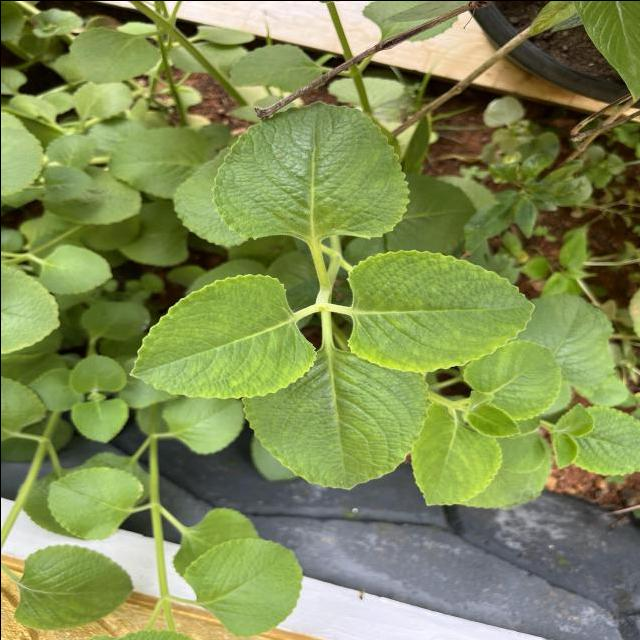Plectranthus barbatus: (215, 101, 411, 240), (126, 272, 318, 399), (344, 247, 536, 373), (238, 374, 430, 489), (180, 536, 304, 638), (12, 541, 134, 631), (408, 402, 502, 507), (459, 338, 562, 421), (46, 464, 143, 540), (569, 403, 640, 477), (70, 398, 130, 443), (67, 352, 126, 392)
